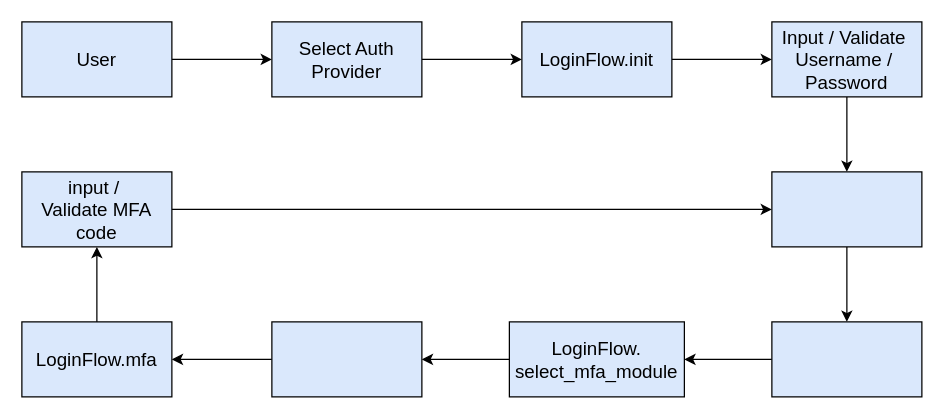
The diagram is 944 pixels wide and 419 high, and some of its shapes have lost their labels. The shapes that lost their labels are listed below. From the top down, each one's centre as x and y in pixels, then its label:
At point 846,209: "LoginFlow.finish".
At point 346,359: "initialize (optional)".
At point 846,359: "If User enabled MFA".
